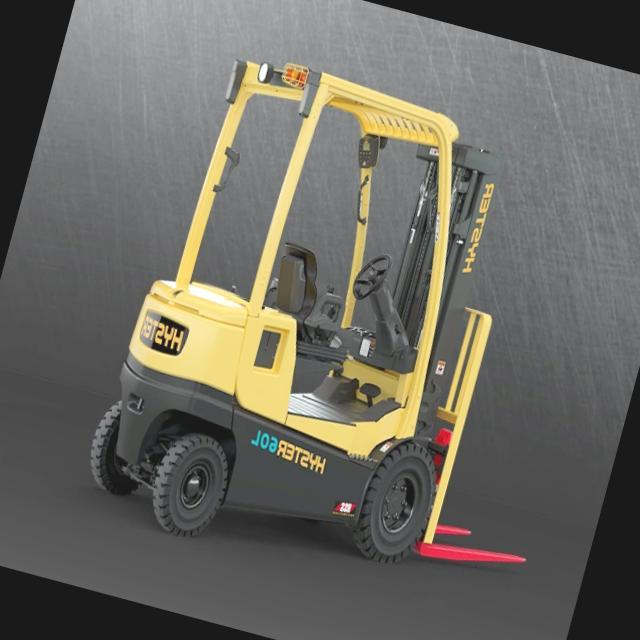forklift: (64, 18, 582, 617)
